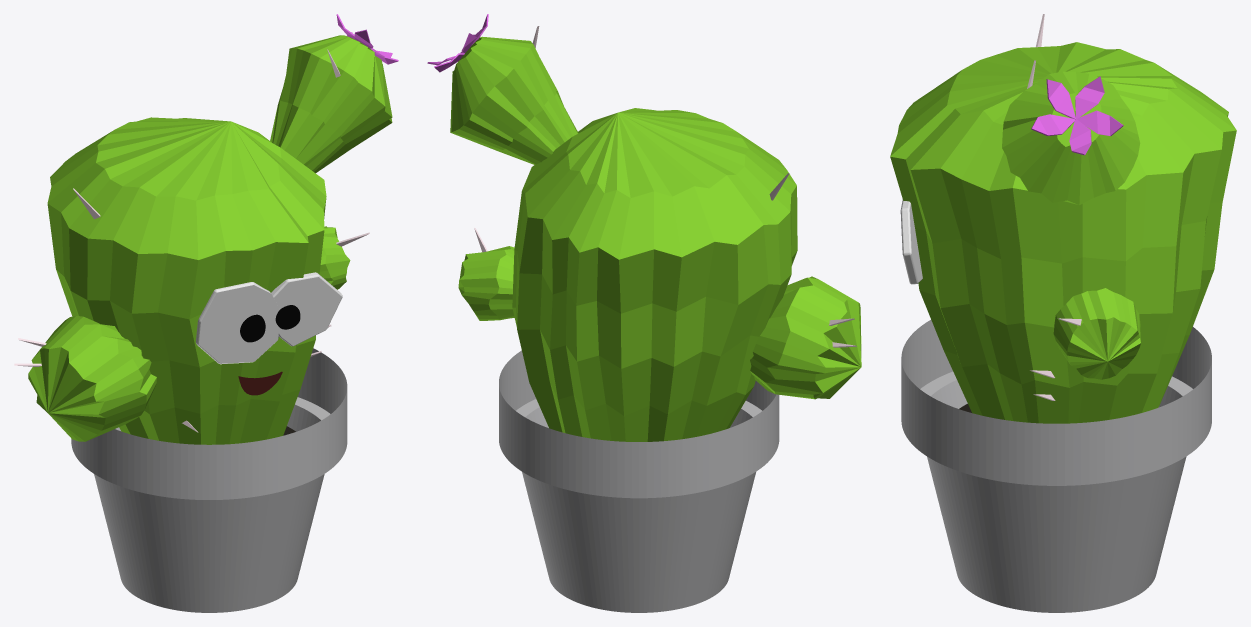
File: cactus2.glb
3 renders of one model, left to right at view 1: azimuth 30°, elevation 25°; view 2: azimuth 150°, elevation 25°; view 3: azimuth 270°, elevation 25°, orthographic. The views are drawn at different scales.
Parts seen in each view (by area): view 1: Cylinder.008, Cylinder.006, Cylinder.011, Cylinder.009, Plane.005, Cylinder.010, Circle.019, Circle.017, Cylinder.012; view 2: Cylinder.008, Cylinder.006, Cylinder.011, Cylinder.009, Cylinder.010; view 3: Cylinder.008, Cylinder.006, Cylinder.011, Cylinder.010, Cylinder.012, Plane.005.
Boxes of the visible parts, x1,y1,x2,y2 form: Cylinder.008: (47,117,326,444); Cylinder.006: (71,348,347,612); Cylinder.011: (270,35,392,173); Cylinder.009: (28,316,156,441); Plane.005: (196,272,342,364); Cylinder.010: (319,226,350,289); Circle.019: (238,371,282,395); Circle.017: (240,314,265,342); Cylinder.012: (336,14,398,64); Cylinder.008: (512,108,797,441); Cylinder.006: (499,350,779,612); Cylinder.011: (450,36,578,164); Cylinder.009: (750,276,861,399); Cylinder.010: (458,246,514,320); Cylinder.008: (890,42,1236,423); Cylinder.006: (901,320,1211,612); Cylinder.011: (1002,71,1140,204); Cylinder.010: (1053,288,1140,379); Cylinder.012: (1031,76,1123,155); Plane.005: (900,199,922,284).
Size of the model in its own units: 4.05 by 4.94 by 2.69.
